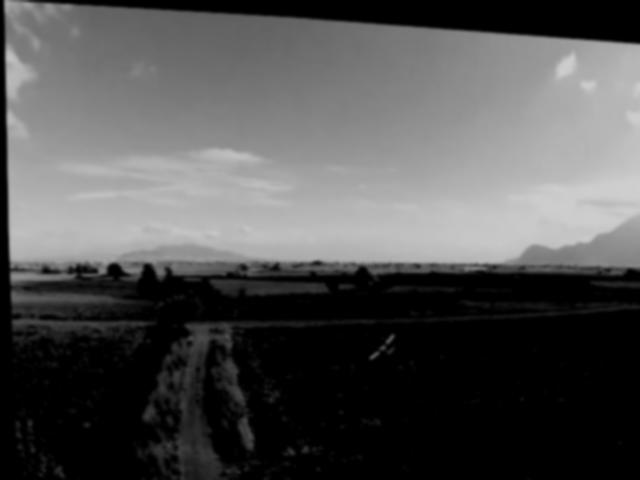hedef: (364, 323, 396, 360)
